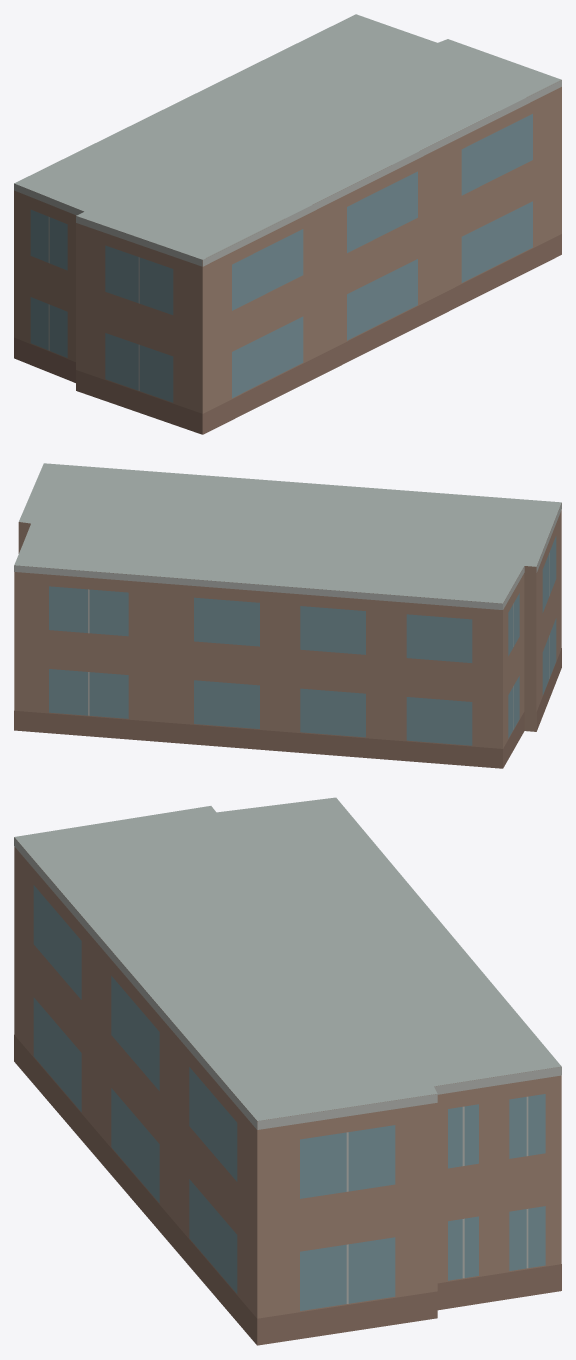
Rendered from survey-upis-32658875.glb.
3 views of the same model, one above another, from view 1: azimuth 30°, elevation 25°; view 2: azimuth 150°, elevation 25°; view 3: azimuth 270°, elevation 25° (orthographic). The views are drawn at different scales.
Visible parts, largest first — view 1: survey-upis-32658875.tmp; view 2: survey-upis-32658875.tmp; view 3: survey-upis-32658875.tmp.
Boxes of the visible parts, x1,y1,x2,y2 form: survey-upis-32658875.tmp: [14, 14, 561, 434]; survey-upis-32658875.tmp: [14, 463, 561, 768]; survey-upis-32658875.tmp: [14, 797, 561, 1345].
Bounding box in the file's own units: 18.88 × 6.1 × 13.5.
